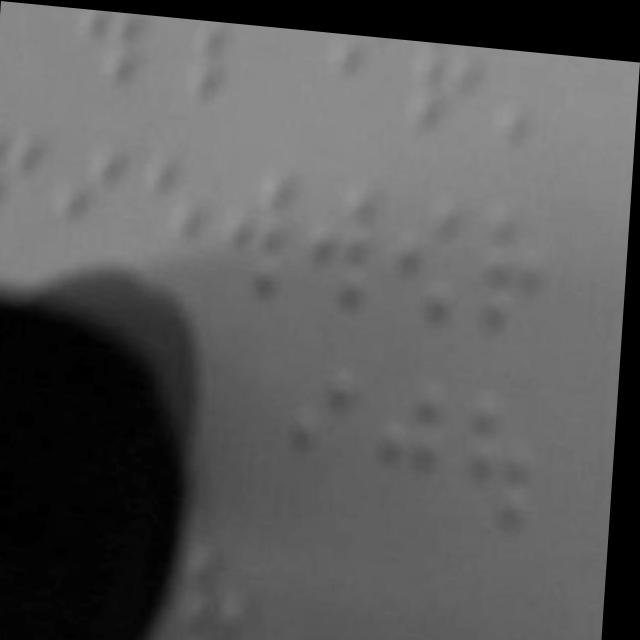braiile: (278, 348, 371, 520), (371, 367, 457, 541), (214, 154, 307, 314), (457, 371, 540, 547), (302, 167, 392, 329), (389, 177, 481, 332), (470, 186, 556, 350), (48, 128, 130, 295), (134, 137, 215, 292), (322, 25, 402, 144), (401, 31, 488, 137), (154, 12, 236, 113)
